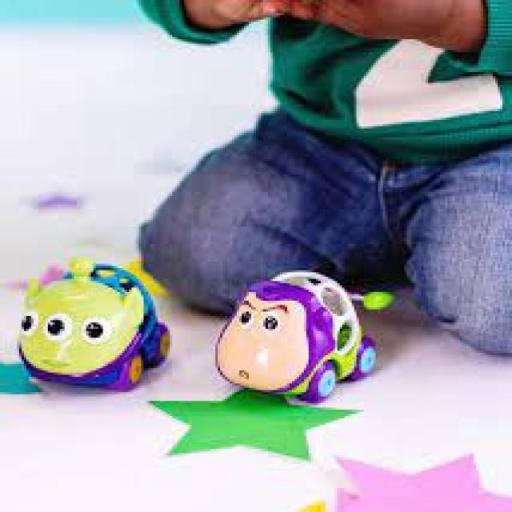baby: (136, 0, 512, 352)
